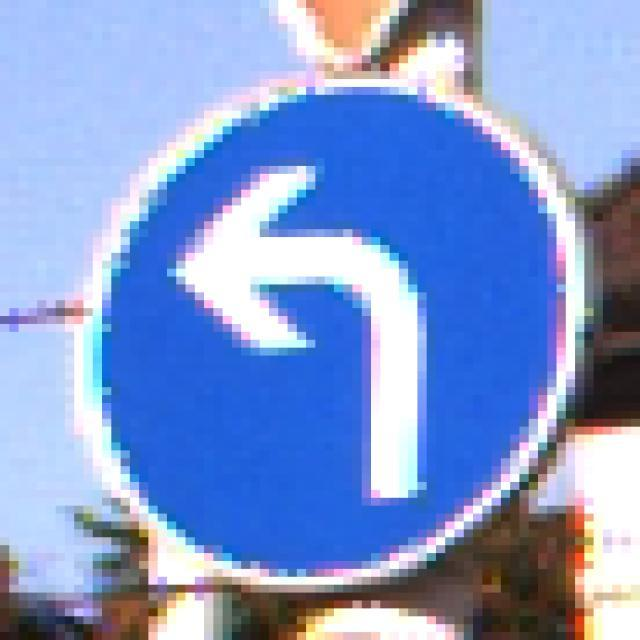compulsary turn left ahead: (74, 84, 589, 578)
